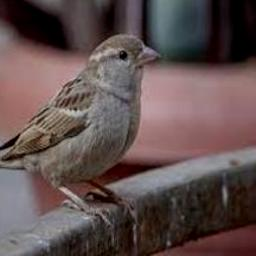Sparrow: (0, 33, 162, 225)
